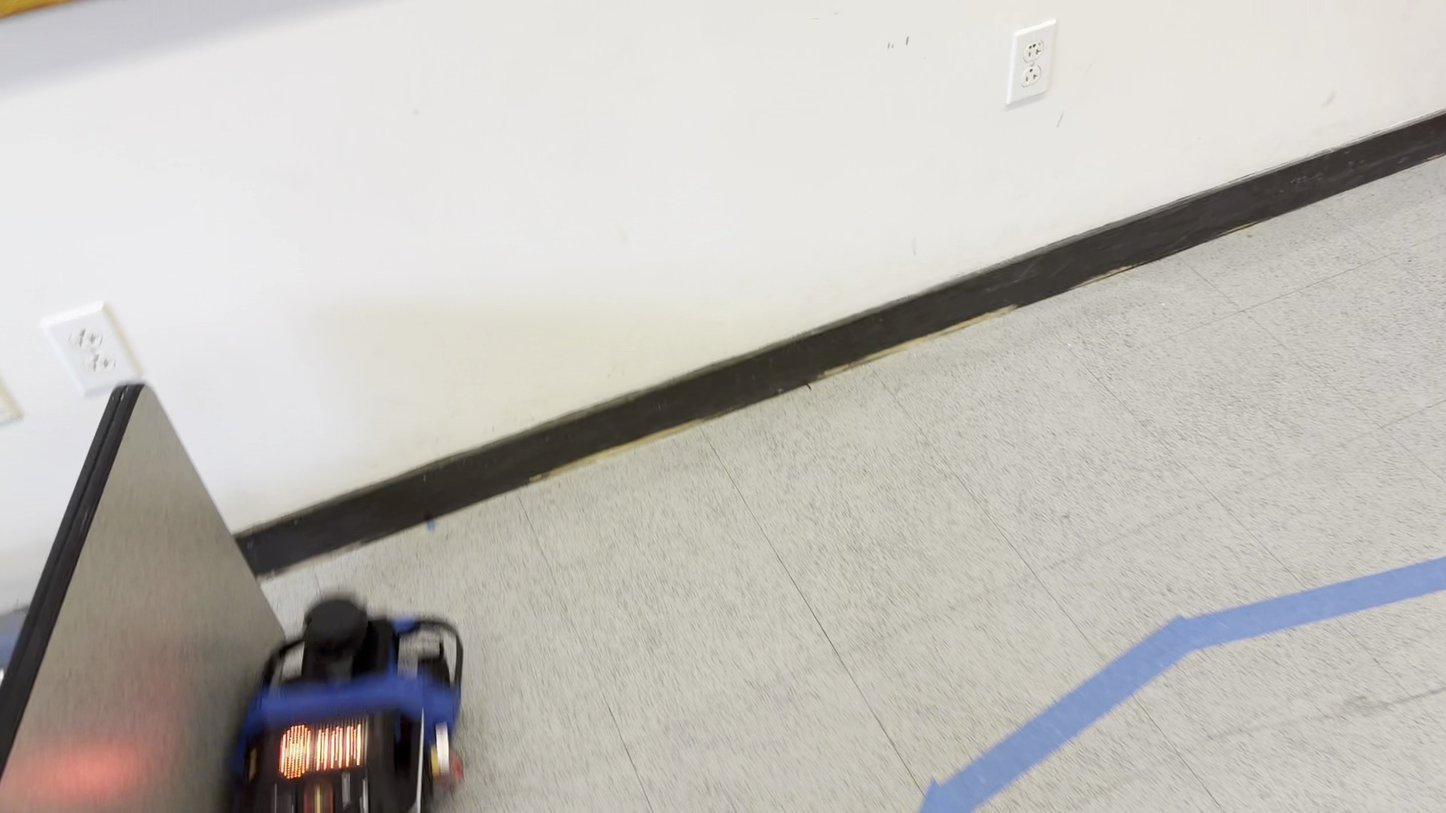racecar: (227, 603, 471, 811)
